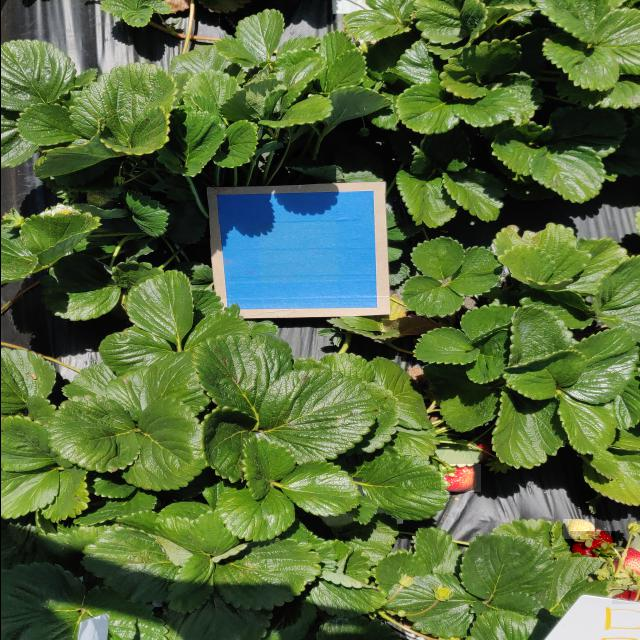ripe: (561, 519, 594, 540), (610, 586, 639, 606), (84, 191, 112, 208)
unripe: (569, 531, 614, 558), (439, 464, 480, 493), (612, 549, 639, 579)
